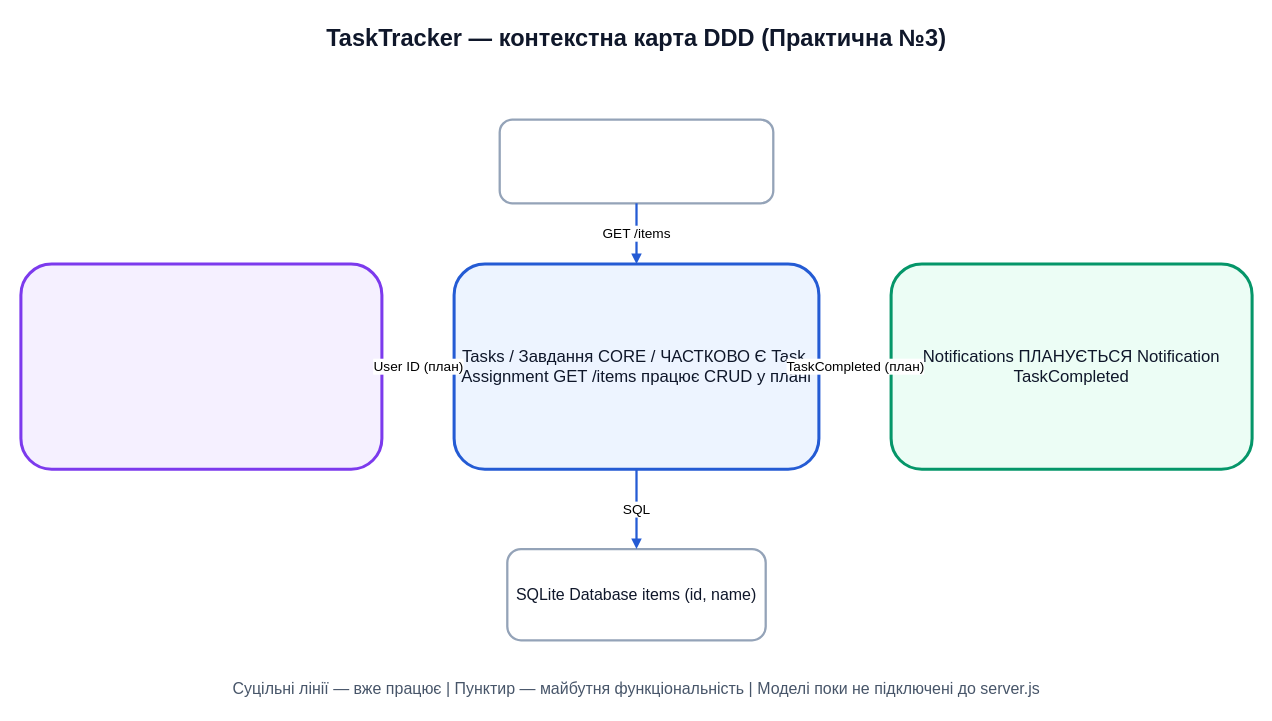
Some shapes in this 1272 by 721 pixel diagram are drawn without their labels. Here are the shapes that lost their labels. From the top down, the box of each, then its label:
(498, 118, 774, 204): Browser / Frontend Load items
(19, 262, 383, 470): Users / Користувачі ПЛАНУЄТЬСЯ User, Role student / teacher
